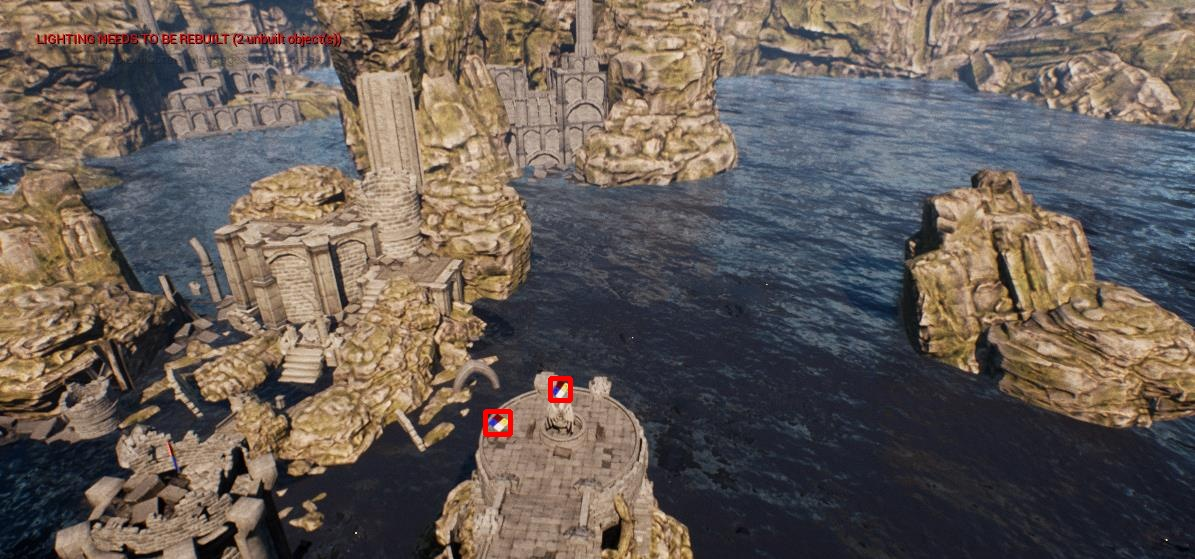nfpa: (485, 411, 510, 434), (550, 378, 570, 400)
